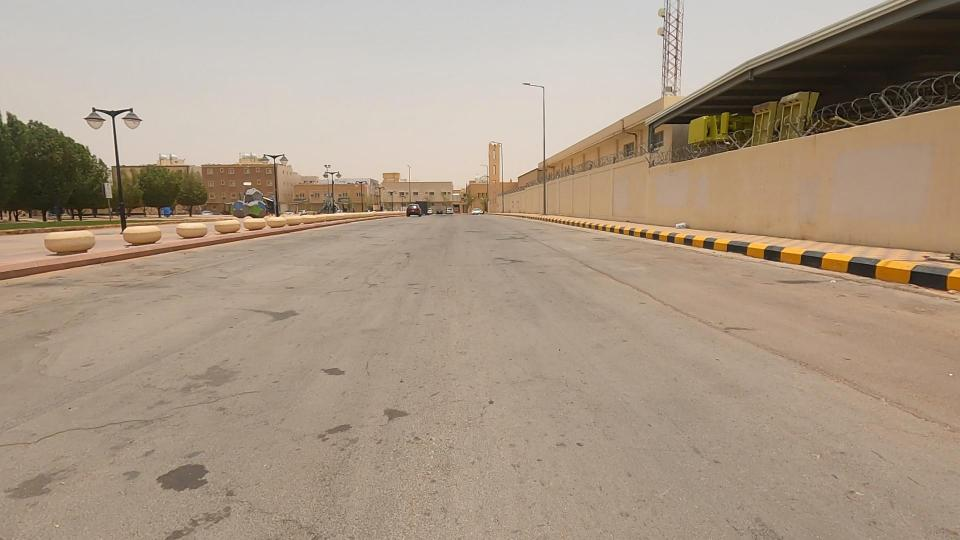GARBAGE: (653, 204, 709, 249)
